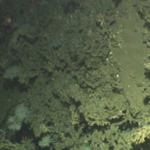dead: (11, 7, 135, 141)
